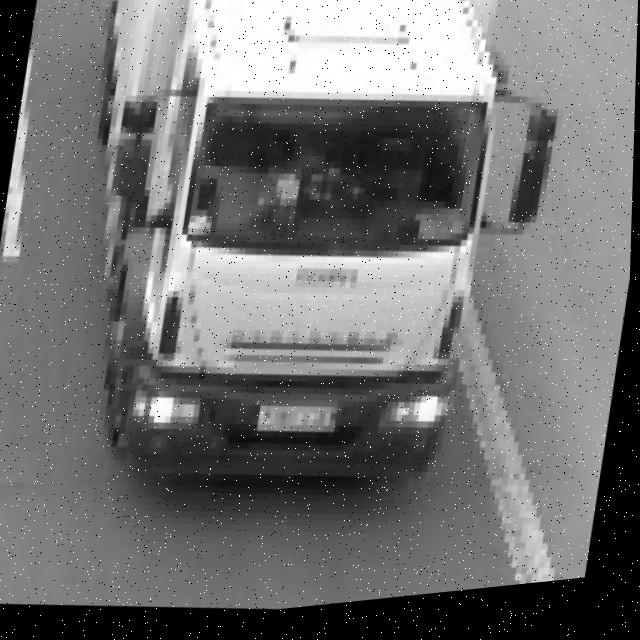truck: (49, 1, 575, 534)
